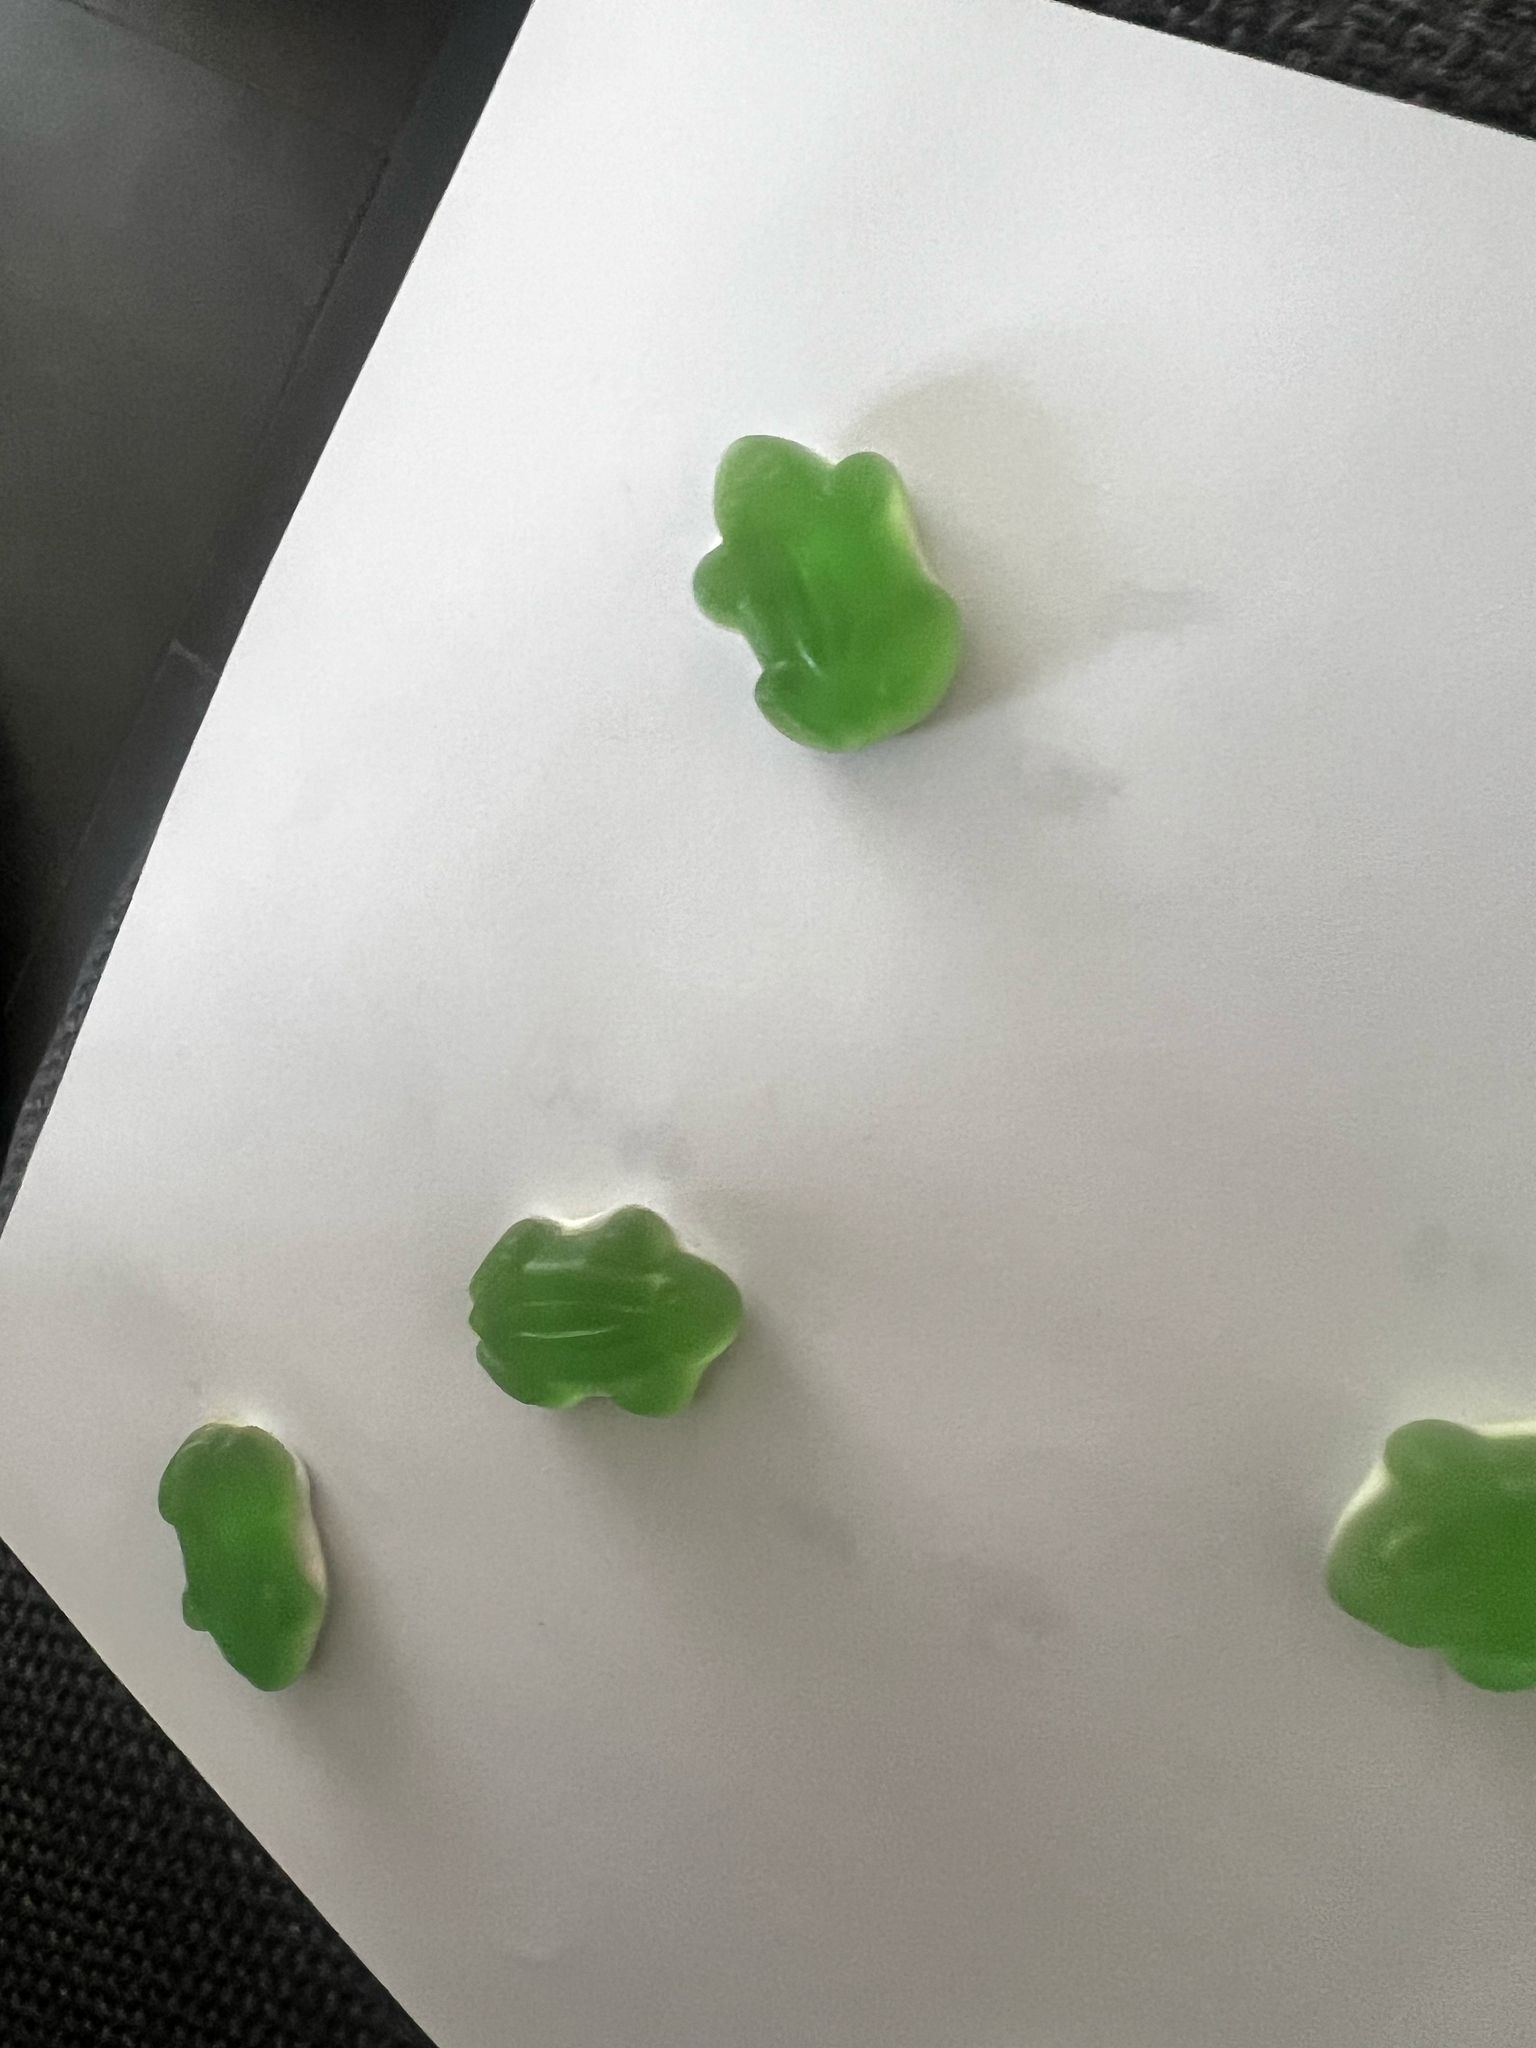frog: (694, 414, 973, 769), (453, 1198, 758, 1434), (145, 1409, 337, 1701)
